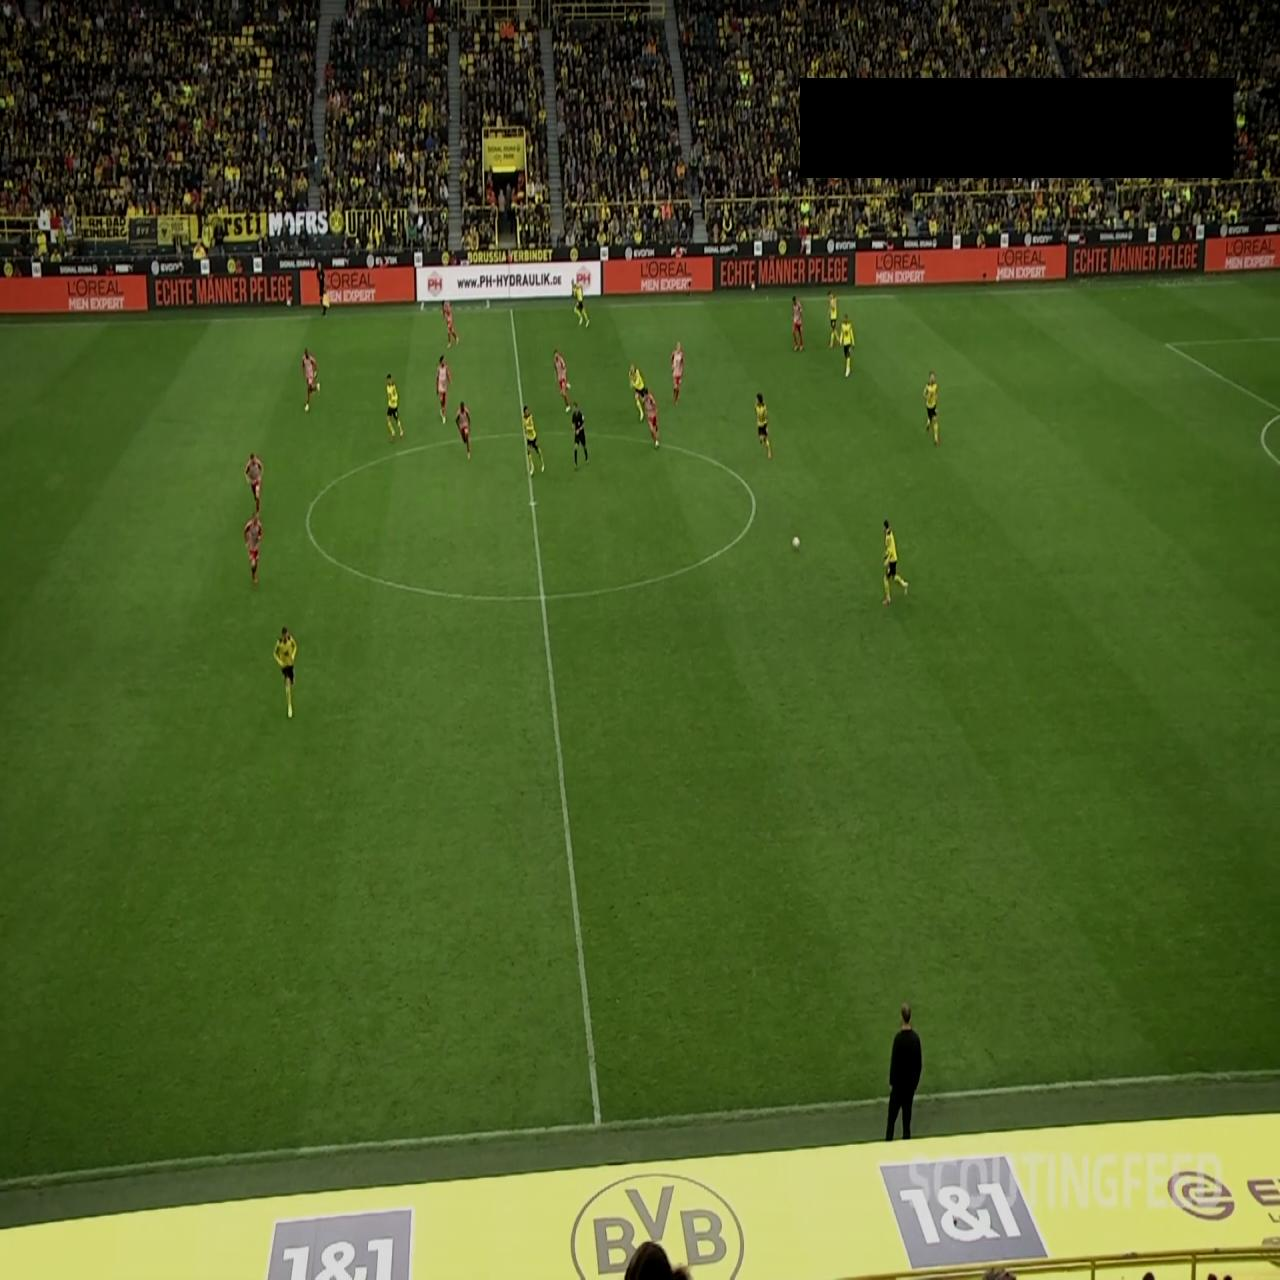ball: (792, 536, 800, 551)
player: (881, 518, 910, 607), (273, 626, 298, 718), (523, 404, 545, 475), (244, 511, 263, 588), (385, 372, 405, 442), (923, 370, 941, 447), (552, 348, 572, 415), (754, 392, 772, 460), (302, 346, 320, 413), (436, 354, 452, 424), (245, 452, 263, 514), (628, 362, 646, 420), (455, 399, 472, 460), (643, 388, 659, 448), (572, 278, 591, 328), (840, 314, 855, 377), (670, 339, 684, 405), (442, 300, 459, 348), (791, 294, 804, 352), (827, 289, 839, 349)
referee: (570, 400, 588, 468), (314, 260, 330, 315)
